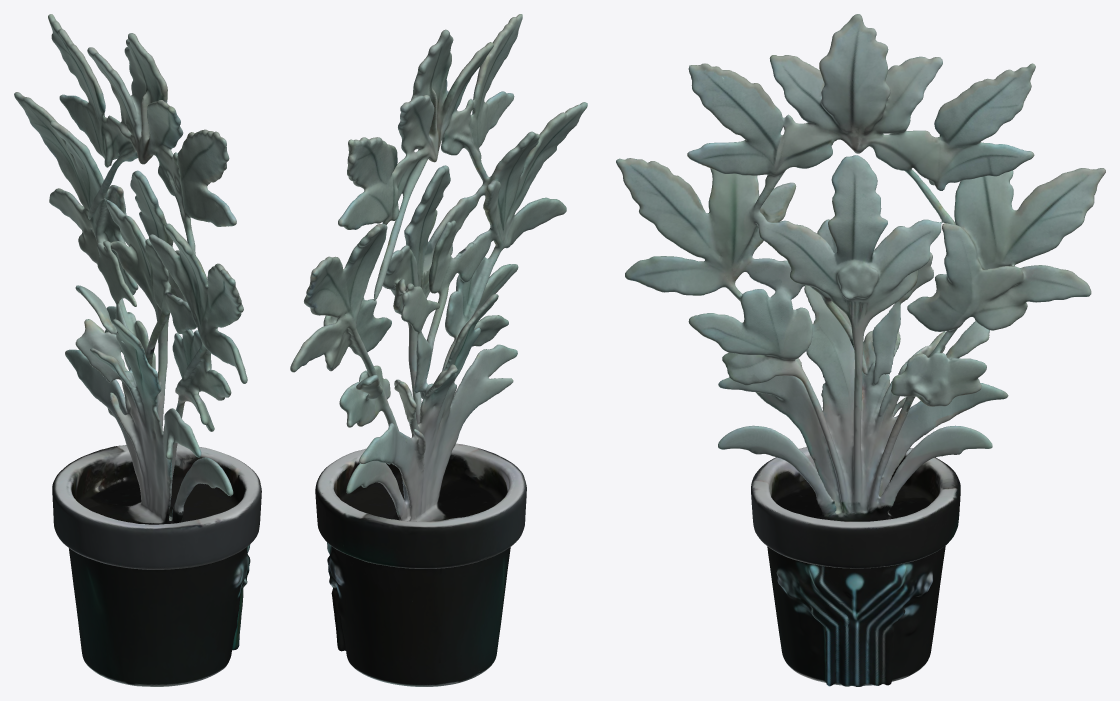
The model's file is tripo_convert_471ccb88-a7ff-4c4e-9ef7-e8e82d583307.obj.
3 views of the same model, side by side, from view 1: azimuth 30°, elevation 25°; view 2: azimuth 150°, elevation 25°; view 3: azimuth 270°, elevation 25° (orthographic).
Parts seen in each view (by area): view 1: tripo_node_471ccb88-a7ff-4c4e-9ef7-e8e82d583307; view 2: tripo_node_471ccb88-a7ff-4c4e-9ef7-e8e82d583307; view 3: tripo_node_471ccb88-a7ff-4c4e-9ef7-e8e82d583307.
Boxes of the visible parts, x1=… form: tripo_node_471ccb88-a7ff-4c4e-9ef7-e8e82d583307: x1=14, y1=14, x2=261, y2=686; tripo_node_471ccb88-a7ff-4c4e-9ef7-e8e82d583307: x1=290, y1=14, x2=587, y2=686; tripo_node_471ccb88-a7ff-4c4e-9ef7-e8e82d583307: x1=616, y1=14, x2=1105, y2=686.
Size of the model in its own units: 0.2862 by 0.9478 by 0.6679.
1 material, 1 textured.
